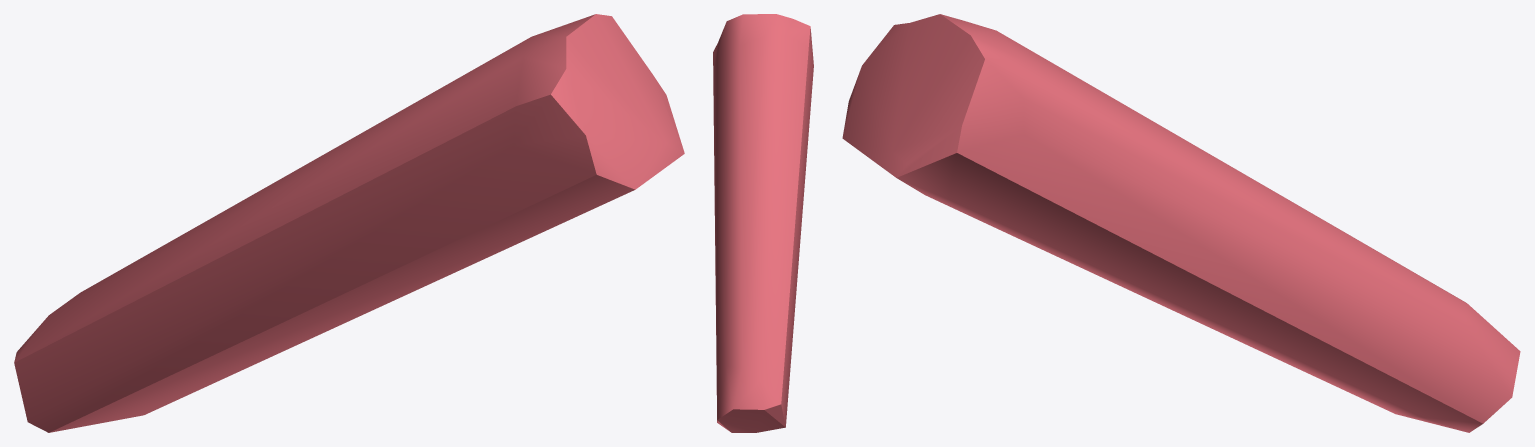
The model's file is fma68741_fj3012.glb.
The picture shows the model from 3 angles, left to right: view 1: azimuth 30°, elevation 25°; view 2: azimuth 150°, elevation 25°; view 3: azimuth 270°, elevation 25°; orthographic projection. The views are drawn at different scales.
Parts seen in each view (by area): view 1: FMA68741_FJ3012; view 2: FMA68741_FJ3012; view 3: FMA68741_FJ3012.
Boxes of the visible parts, x1,y1,x2,y2 form: FMA68741_FJ3012: [14, 14, 684, 432]; FMA68741_FJ3012: [713, 14, 813, 432]; FMA68741_FJ3012: [842, 14, 1520, 432].
Size of the model in its own units: 0.00613 by 0.00796 by 0.00961.
